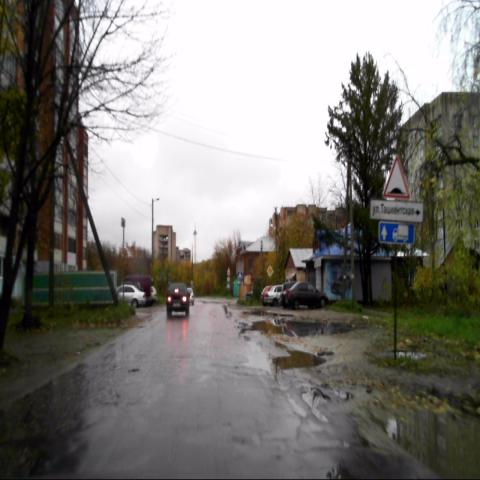6_15_1: (379, 221, 414, 244)
